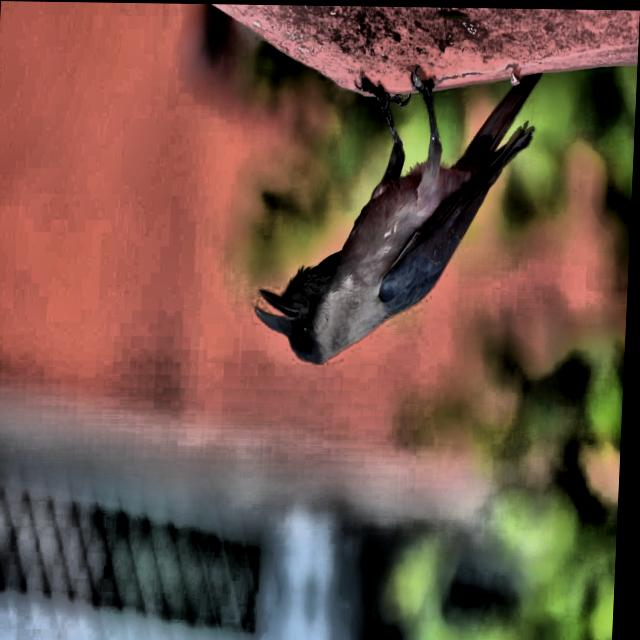crow: (245, 53, 542, 400)
